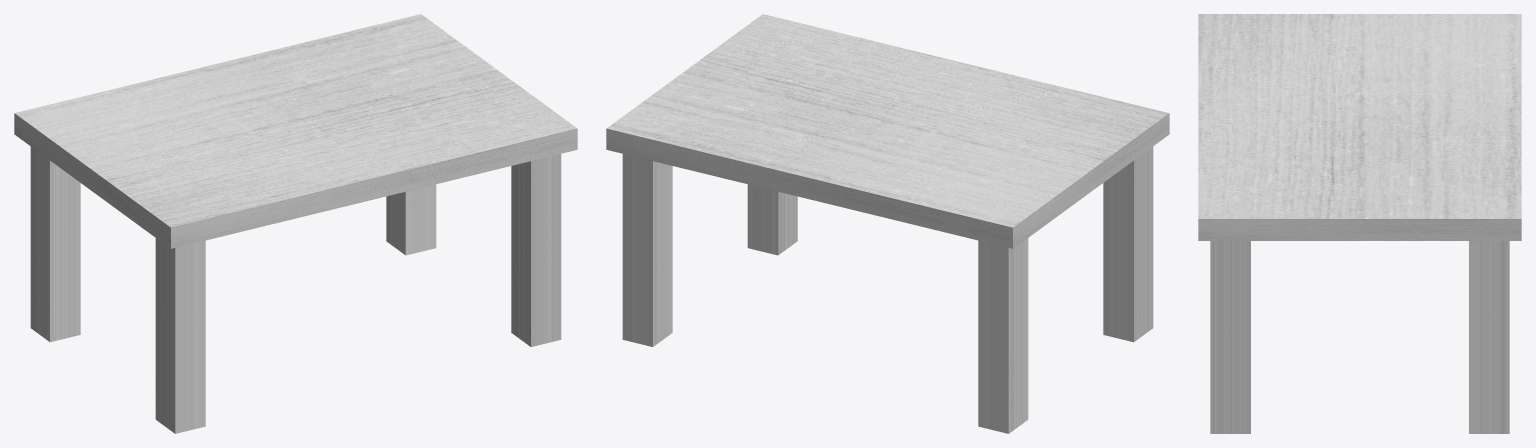
The model's file is mesa 1.fbx.
The picture shows the model from 3 angles, left to right: view 1: azimuth 30°, elevation 25°; view 2: azimuth 150°, elevation 25°; view 3: azimuth 270°, elevation 25°; orthographic projection. The views are drawn at different scales.
Visible parts, largest first — view 1: Box001; view 2: Box001; view 3: Box001.
Part boxes in pixels (box(x1,y1,x2,y2)): Box001: box(14, 14, 577, 433); Box001: box(606, 14, 1169, 433); Box001: box(1198, 14, 1521, 433).
Size of the model in its own units: 60 by 30.04 by 40.
Materials: 1 (1 with a texture image).
